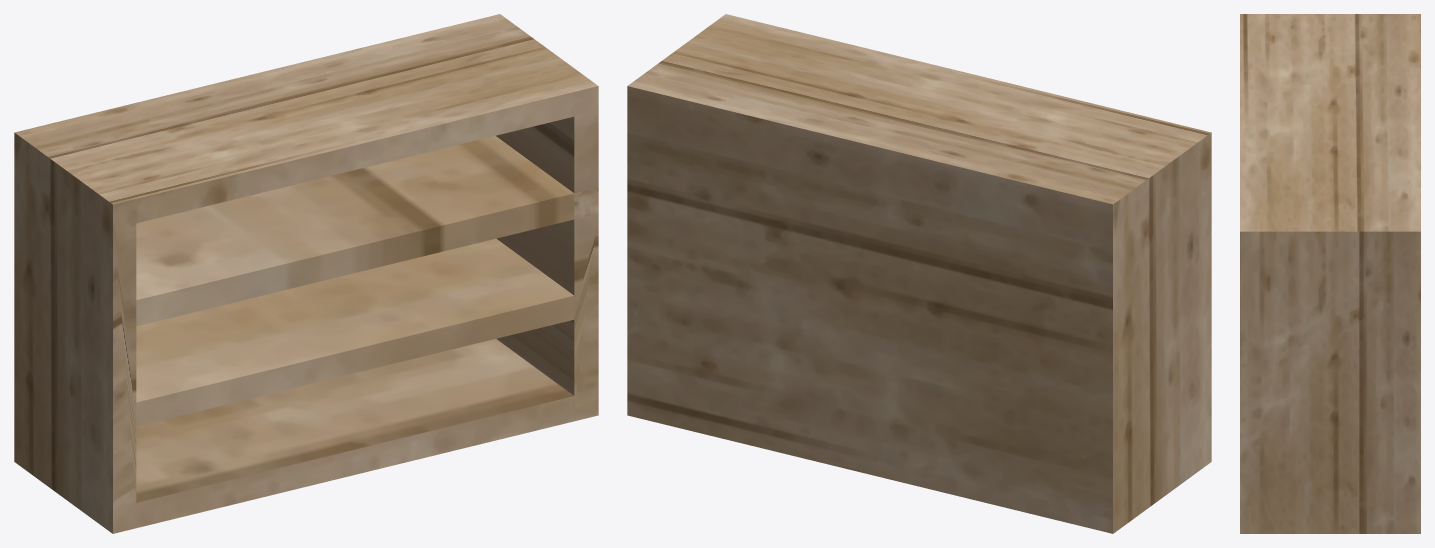
The model's file is shelf_low.fbx.
The picture shows the model from 3 angles, left to right: view 1: azimuth 30°, elevation 25°; view 2: azimuth 150°, elevation 25°; view 3: azimuth 270°, elevation 25°; orthographic projection. The views are drawn at different scales.
Visible parts, largest first — view 1: Cube; view 2: Cube; view 3: Cube.
Part boxes in pixels (x1,y1,x2,y2): Cube: (14,14,598,533); Cube: (627,14,1211,533); Cube: (1240,14,1420,533).
Bounding box in the file's own units: 200 × 130 × 70.19.
